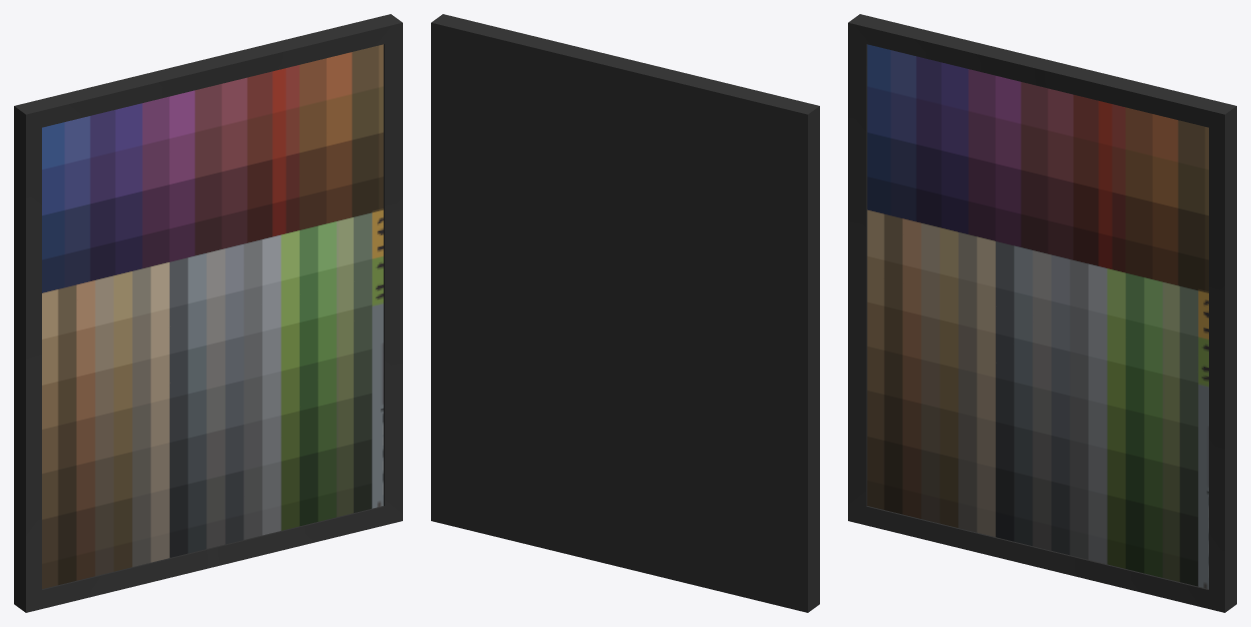
Rendered from Poster_Aero.fbx.
3 renders of one model, left to right at view 1: azimuth 30°, elevation 25°; view 2: azimuth 150°, elevation 25°; view 3: azimuth 330°, elevation 25°, orthographic.
Visible parts, largest first — view 1: Poster_Aero; view 2: Poster_Aero; view 3: Poster_Aero.
Boxes of the visible parts, x1,y1,x2,y2 form: Poster_Aero: [14, 14, 402, 612]; Poster_Aero: [431, 14, 819, 612]; Poster_Aero: [848, 14, 1236, 612].
Size of the model in its own units: 1.1 by 1.39 by 0.06.
